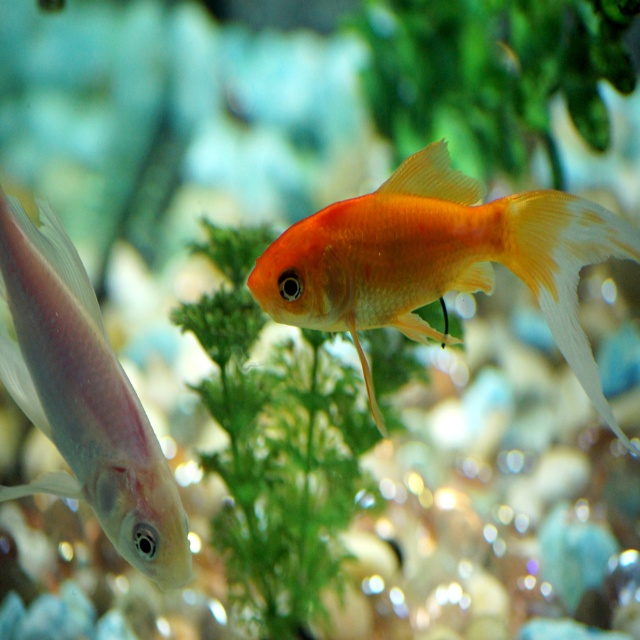Goldfish: (247, 142, 634, 449)
